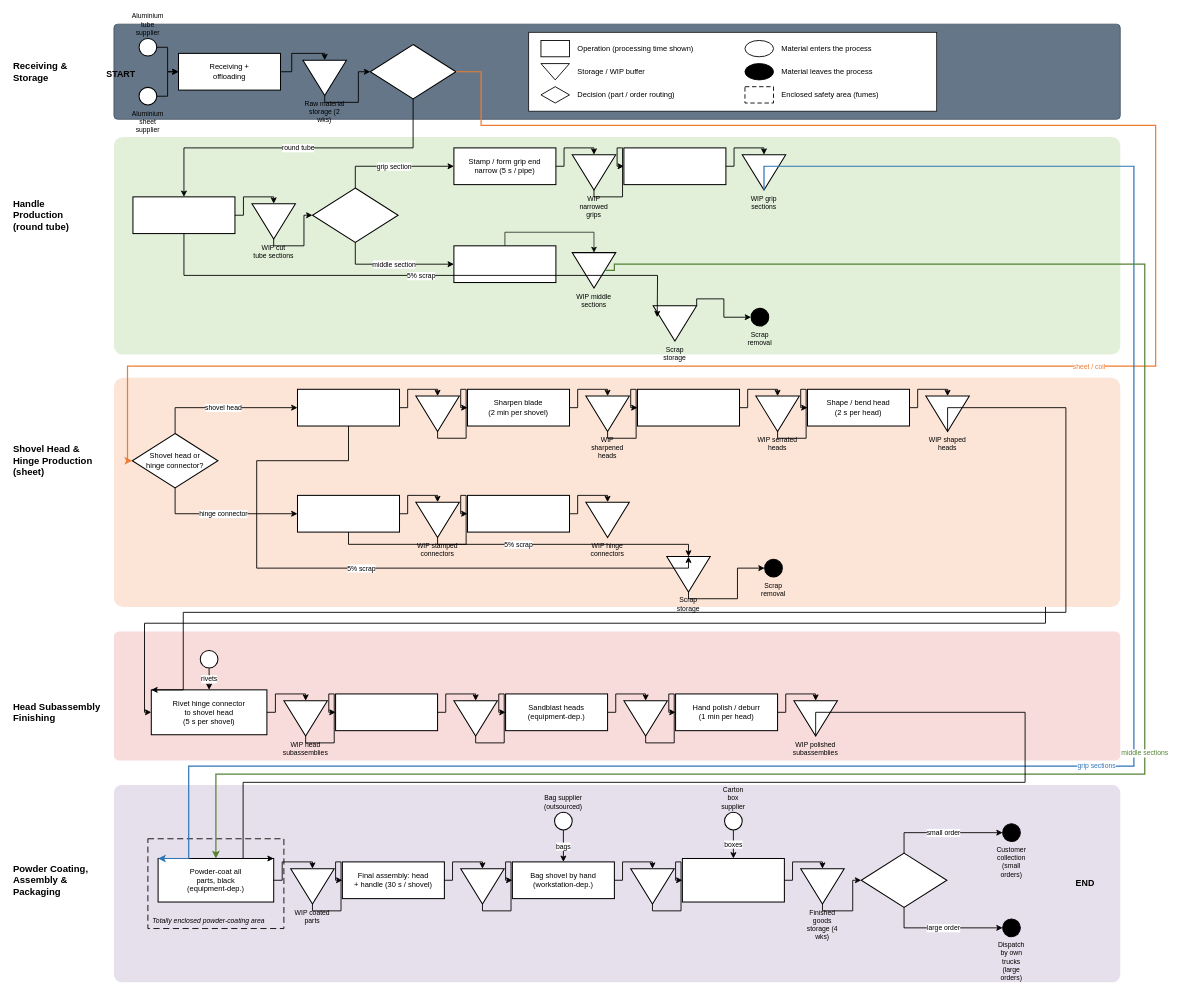
Some shapes in this 1180 by 993 pixel diagram are drawn without their labels. The shapes that lost their labels are listed below. From the top down, each one's centre as x and y in pixels, then its label:
At (x=412, y=71): "Round tube or sheet?".
At (x=674, y=166): "Knurl + cut external thread (1 min / pipe)".
At (x=183, y=215): "Cut handle (15 s per cut)".
At (x=355, y=215): "Grip or middle section?".
At (x=504, y=264): "Cut internal thread (20 s per pipe)".
At (x=348, y=407): "Stamp shovel head (2 s per part)".
At (x=437, y=413): "WIP stamped heads".
At (x=688, y=407): "Serrate blade edge (1 min per shovel)".
At (x=348, y=513): "Stamp hinge connector (2 s per part)".
At (x=518, y=513): "Bend hinge connector (5 s per part)".
At (x=208, y=659): "Rivet supplier".
At (x=386, y=712): "Heat-treat subassembly (equipment-dep.)".
At (x=475, y=718): "WIP heat- treated heads".
At (x=645, y=718): "WIP sandblasted heads".
At (x=482, y=886): "WIP assembled shovels".
At (x=652, y=886): "WIP bagged shovels".
At (x=733, y=880): "Box by hand + final visual check (workstation-dep.)".
At (x=903, y=880): "Small or large order?".
